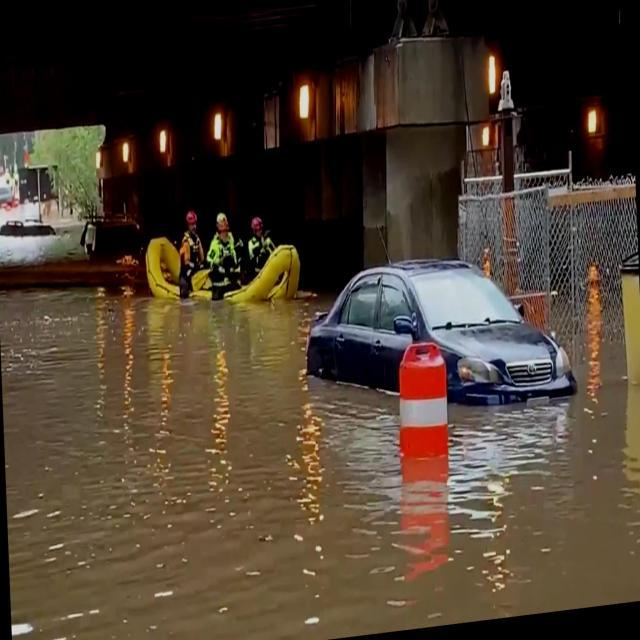flood: (0, 185, 640, 639)
